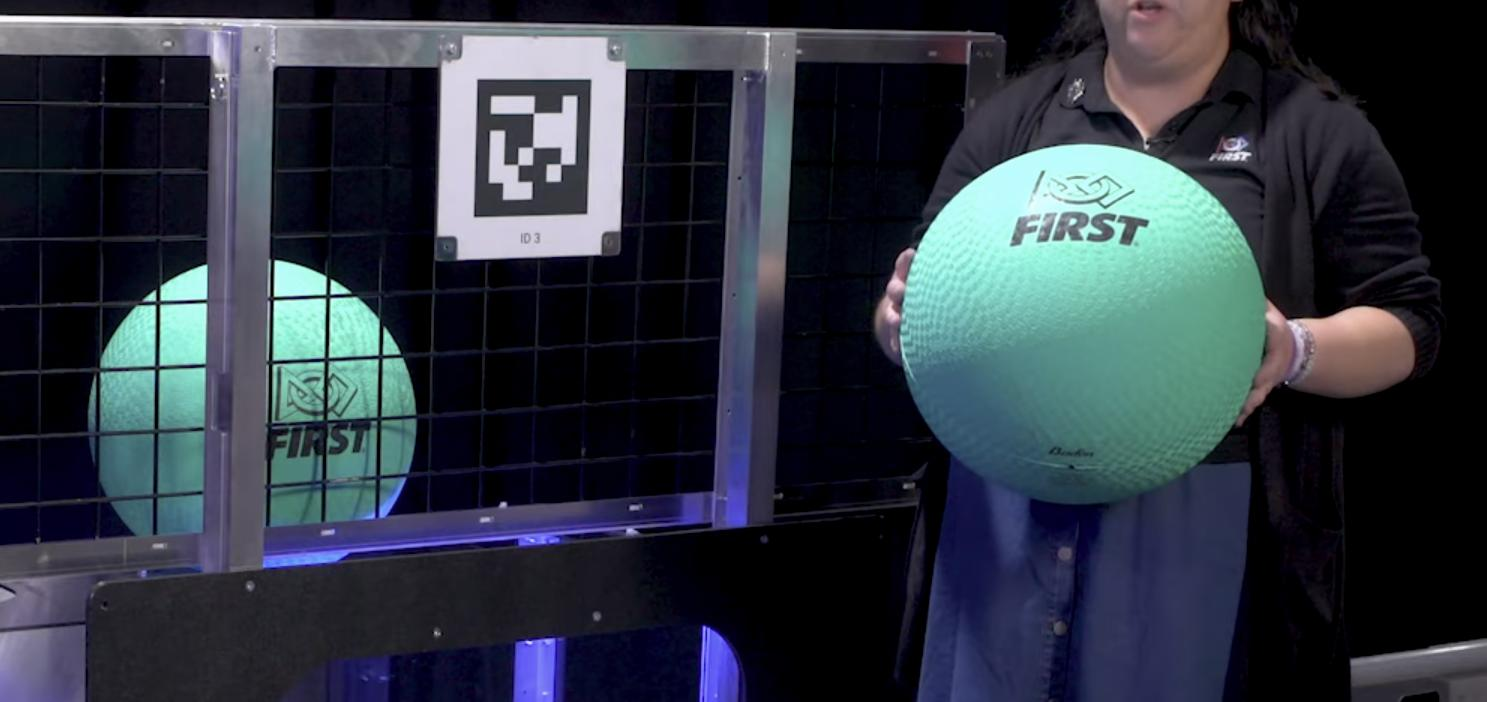algae: (904, 148, 1263, 508), (92, 260, 418, 539)
